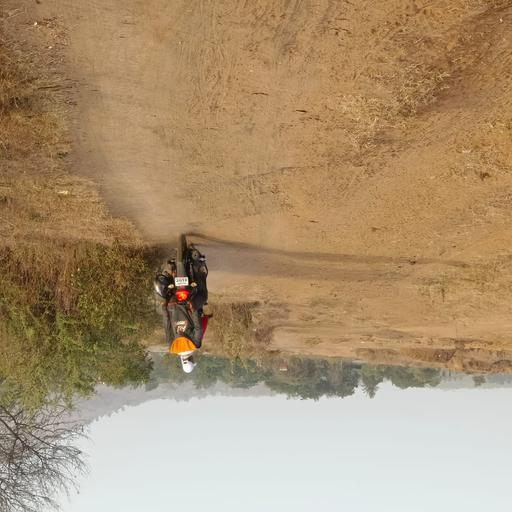vehicle_track: (50, 0, 332, 286)
